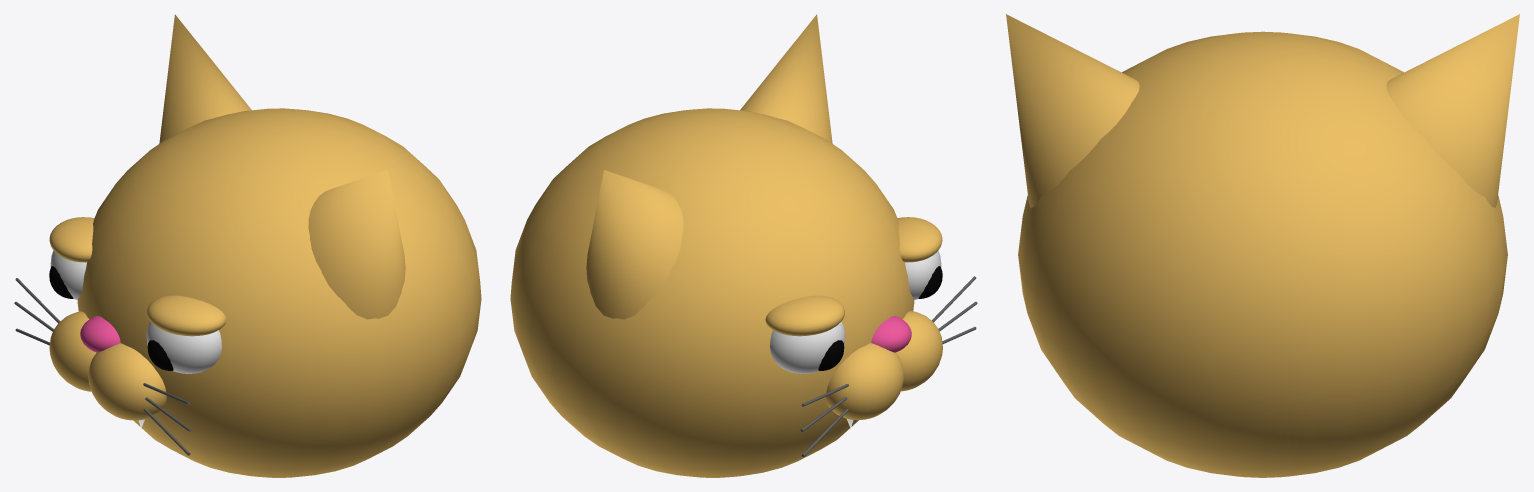
The model's file is YellowCatHead.glb.
3 renders of one model, left to right at view 1: azimuth 30°, elevation 25°; view 2: azimuth 150°, elevation 25°; view 3: azimuth 270°, elevation 25°, orthographic. The views are drawn at different scales.
Parts seen in each view (by area): view 1: Sphere.001, Cone.001, Cone, Sphere.004, Sphere.008, Sphere.003, Sphere.006, Sphere.007, Sphere.002, Sphere.005; view 2: Sphere.001, Cone, Cone.001, Sphere.003, Sphere.007, Sphere.004, Sphere.005, Sphere.008, Sphere.002, Sphere.006; view 3: Sphere.001, Cone, Cone.001.
Boxes of the visible parts, <box> form: Sphere.001: <box>77,108,481,477</box>; Cone.001: <box>308,170,405,319</box>; Cone: <box>159,14,251,143</box>; Sphere.004: <box>88,343,166,420</box>; Sphere.008: <box>147,295,226,336</box>; Sphere.003: <box>49,311,96,391</box>; Sphere.006: <box>146,321,221,373</box>; Sphere.007: <box>49,217,94,262</box>; Sphere.002: <box>80,316,120,352</box>; Sphere.005: <box>50,250,86,299</box>; Sphere.001: <box>510,108,914,477</box>; Cone: <box>586,170,683,319</box>; Cone.001: <box>740,14,832,143</box>; Sphere.003: <box>826,343,903,420</box>; Sphere.007: <box>765,295,844,336</box>; Sphere.004: <box>896,311,942,391</box>; Sphere.005: <box>770,321,845,373</box>; Sphere.008: <box>897,217,942,262</box>; Sphere.002: <box>871,316,911,352</box>; Sphere.006: <box>905,250,941,299</box>; Sphere.001: <box>1018,31,1507,477</box>; Cone: <box>1386,14,1519,207</box>; Cone.001: <box>1006,14,1139,207</box>.
Bounding box in the file's own units: 0.4967 × 0.4586 × 0.4845.
